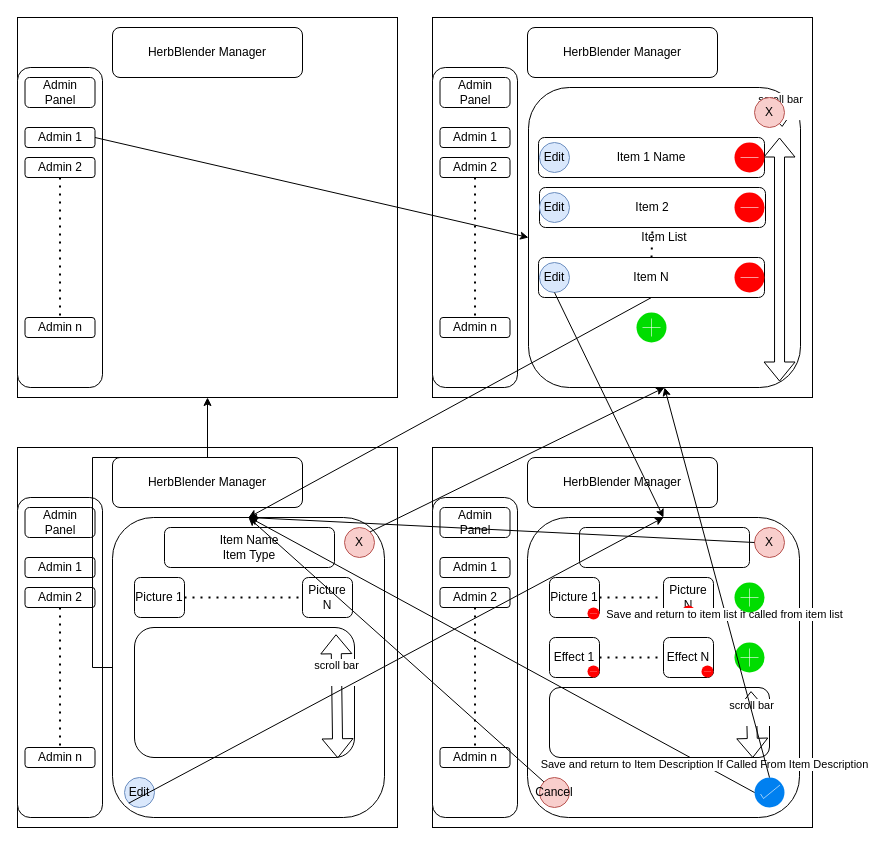
Image size: 886x846. Some labels were removed from this diagram. The shapes that lost their labels are listed below. From the top down, each one's centre as x and y in pixels, then its label:
pixel 664 547: Item Name ......
pixel 244 692: Effects Full Description
pixel 659 722: Full Description
pixel 769 792: Save
